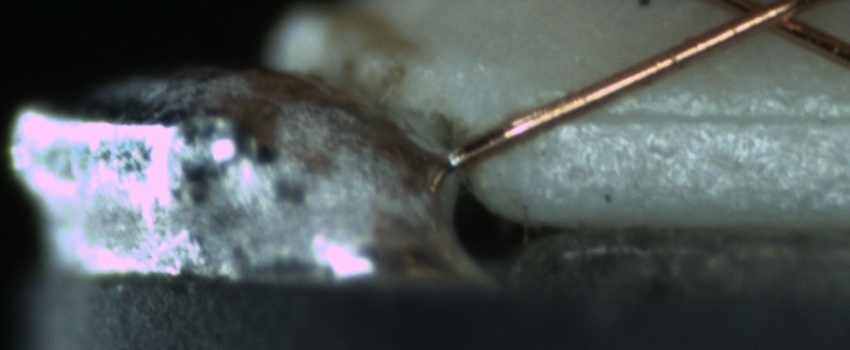CL: (709, 0, 817, 40)
DL: (565, 81, 845, 153)
